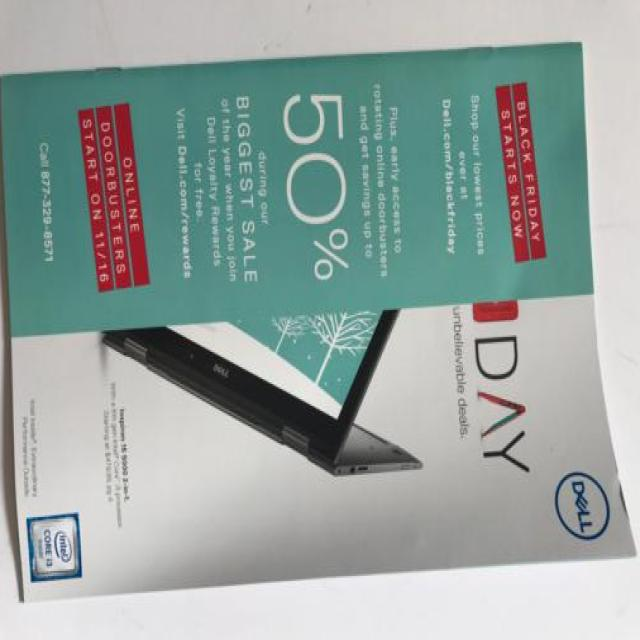kertas: (0, 43, 636, 605)
